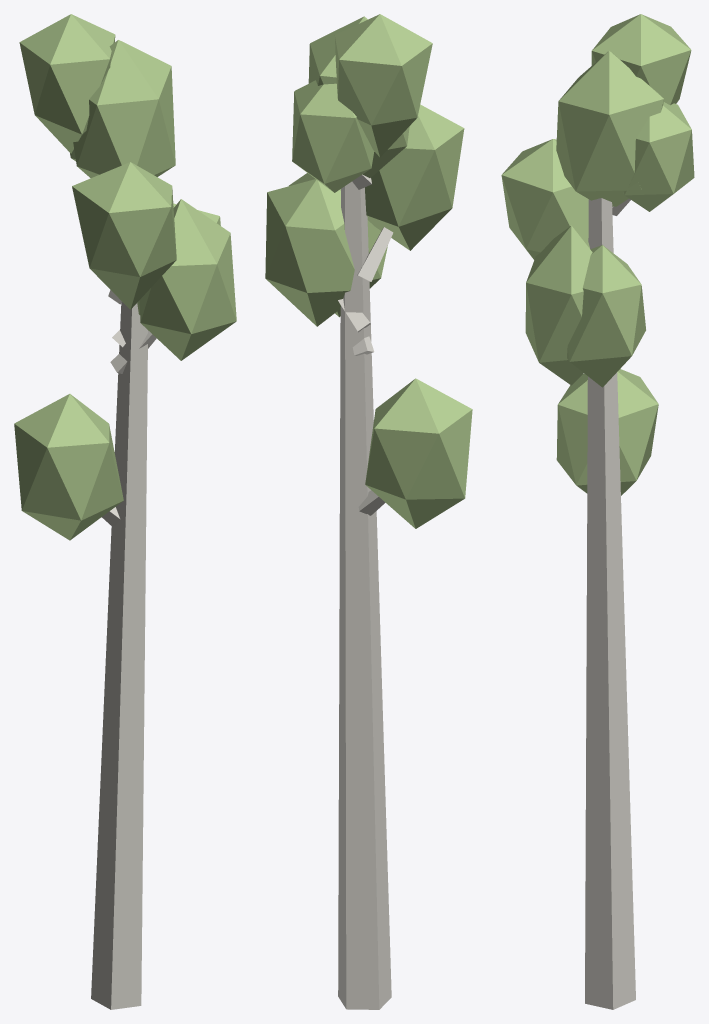
Rendered from arv_betula_1_sem_textura.glb.
The picture shows the model from 3 angles, left to right: view 1: azimuth 30°, elevation 25°; view 2: azimuth 150°, elevation 25°; view 3: azimuth 270°, elevation 25°; orthographic projection. The views are drawn at different scales.
Visible parts, largest first — view 1: arv_betula_1; view 2: arv_betula_1; view 3: arv_betula_1.
Part boxes in pixels (x1,y1,x2,y2): arv_betula_1: (14,14,236,1009); arv_betula_1: (265,14,472,1009); arv_betula_1: (501,14,694,1009).
Size of the model in its own units: 0.5337 by 2.56 by 0.4616.
